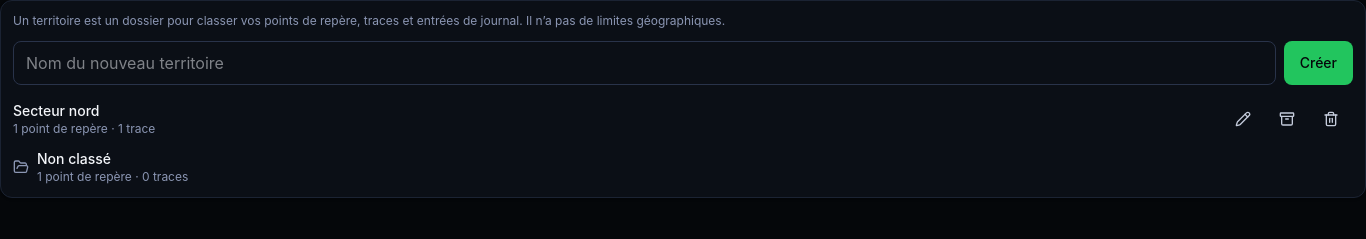
Scenario: TerritoryManager › archives (content untouched) then restores
The width and height of the screenshot is (1366, 239).
What coordinates should you click on to do the following:
click the button named "Archiver Secteur nord"
I would click on:
 (1287, 119)
Its box is x1=1265 y1=97 x2=1309 y2=141.
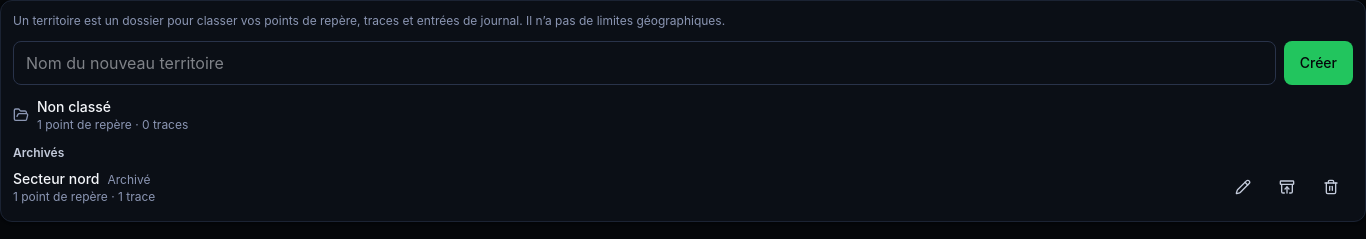
Check: the heading "Archivés" is shown, box x1=13 y1=145 x2=64 y2=160
What coordinates should you click on to do the following:
click the button named "Restaurer Secteur nord"
I would click on:
 (1287, 187)
Its box is x1=1265 y1=165 x2=1309 y2=209.
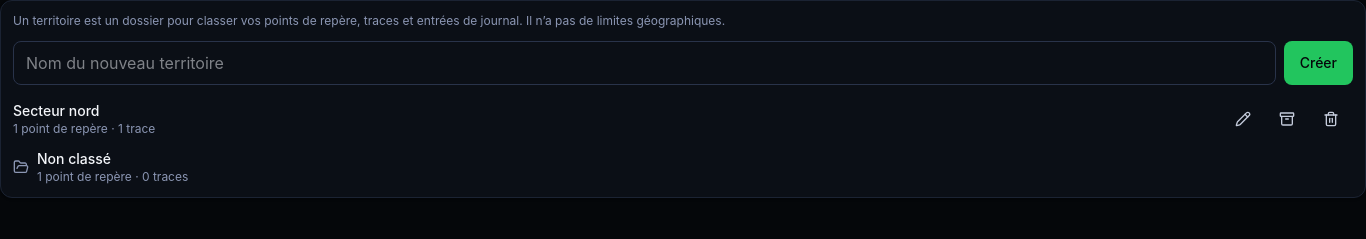
Check: the heading "Archivés" is gone
